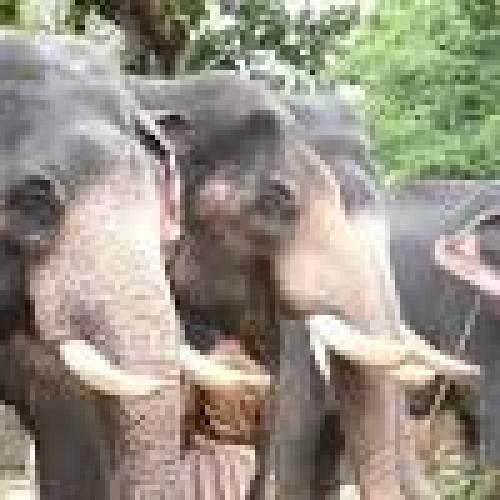asian_elephant-endangered: (116, 68, 480, 495), (0, 35, 275, 500)
